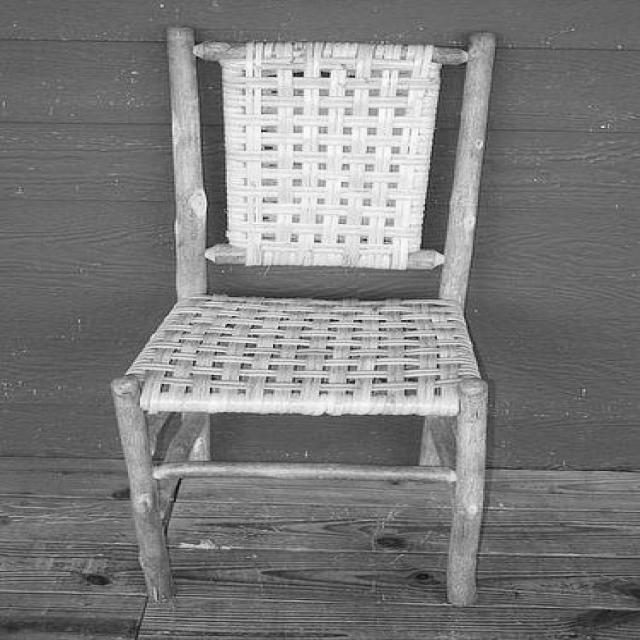chair: (112, 29, 501, 601)
